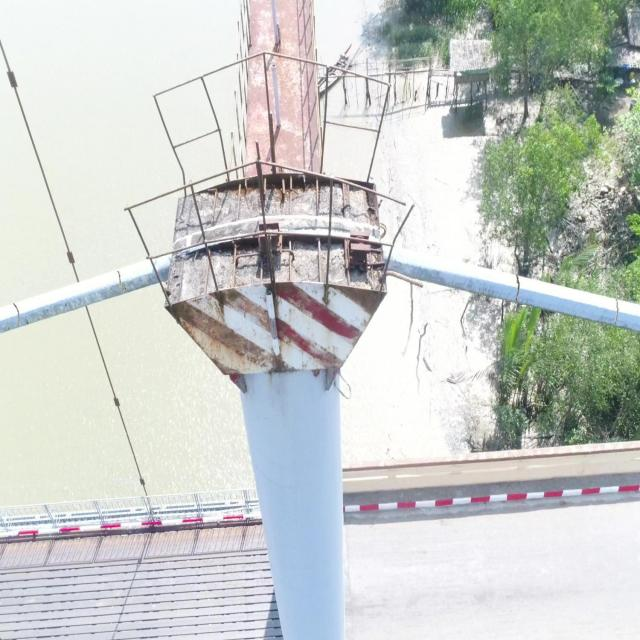crack: (116, 270, 127, 293), (13, 301, 20, 327), (514, 275, 520, 303), (614, 299, 619, 325)
